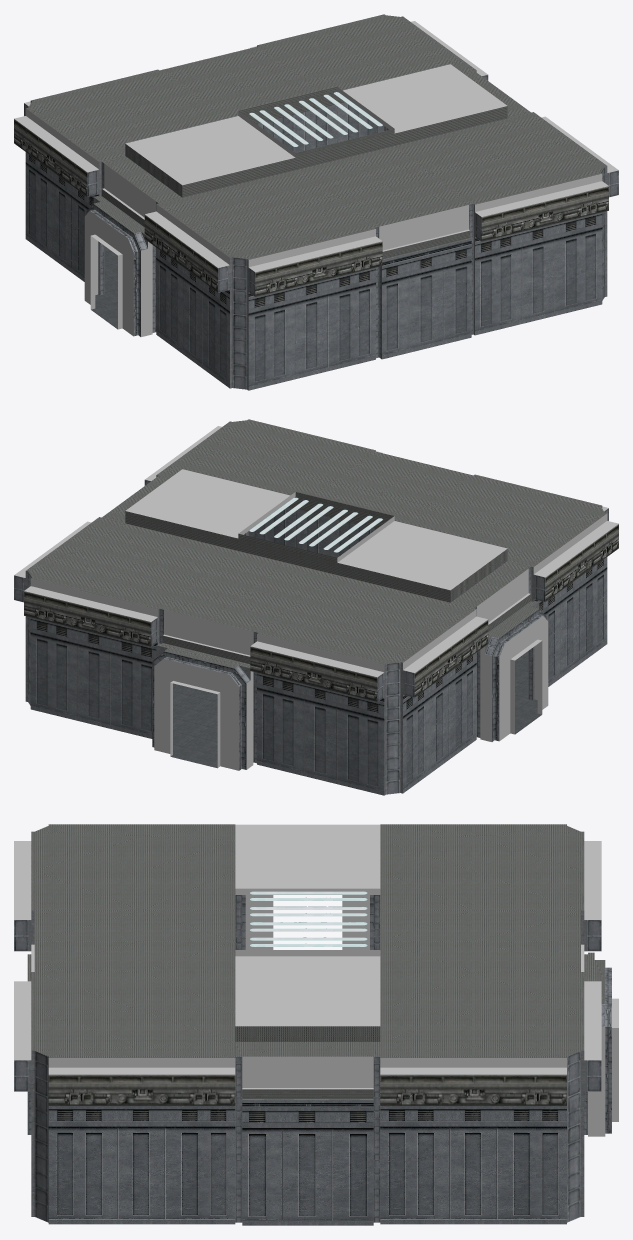
The model's file is poi_all_impl_bunker_warren_s01_r29_smallroom29_mesh_r29.fbx.
The picture shows the model from 3 angles, top to bottom: view 1: azimuth 30°, elevation 25°; view 2: azimuth 150°, elevation 25°; view 3: azimuth 270°, elevation 25°; orthographic projection. The views are drawn at different scales.
Parts seen in each view (by area): view 1: mesh_node; view 2: mesh_node; view 3: mesh_node.
Boxes of the visible parts, bbox=[...] form: mesh_node: bbox=[14, 14, 618, 390]; mesh_node: bbox=[14, 419, 618, 795]; mesh_node: bbox=[14, 824, 618, 1225].
Bounding box in the file's own units: 17.5 × 6 × 17.5.
